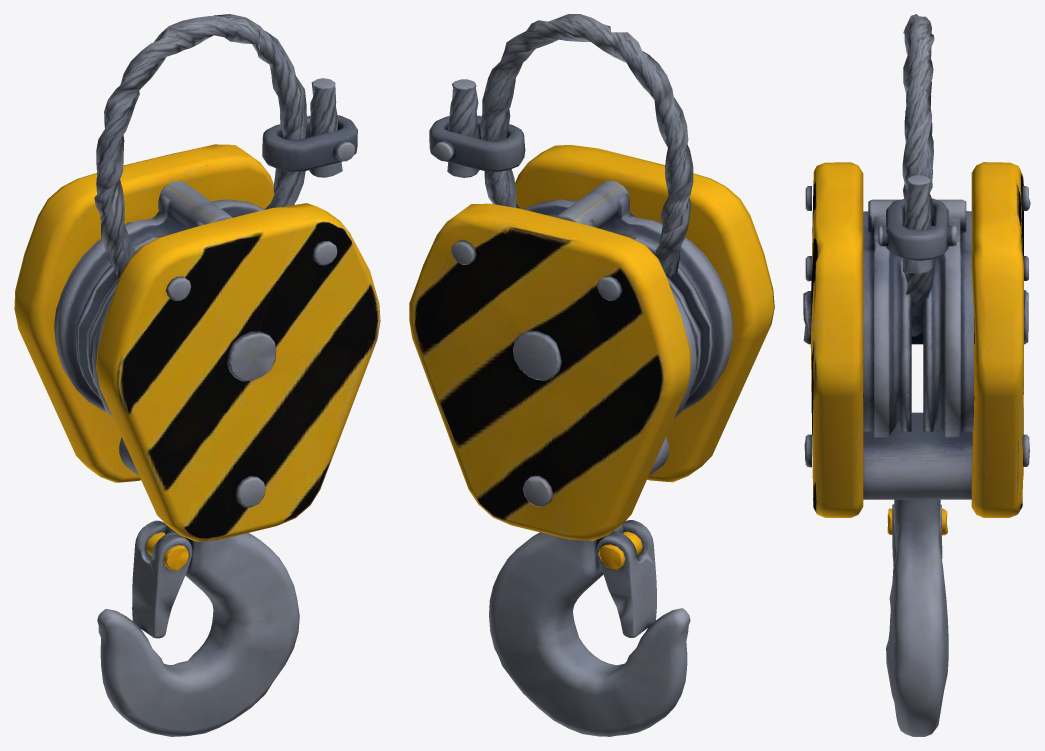
The model's file is crane_hook.glb.
The picture shows the model from 3 angles, left to right: view 1: azimuth 30°, elevation 25°; view 2: azimuth 150°, elevation 25°; view 3: azimuth 270°, elevation 25°; orthographic projection.
Parts seen in each view (by area): view 1: geometry_0; view 2: geometry_0; view 3: geometry_0.
Boxes of the visible parts, x1=… form: geometry_0: x1=14, y1=14, x2=380, y2=736; geometry_0: x1=409, y1=14, x2=774, y2=736; geometry_0: x1=803, y1=14, x2=1030, y2=736.
Bounding box in the file's own units: 0.4058 × 0.9517 × 0.2778.
Materials: 1 (1 with a texture image).
